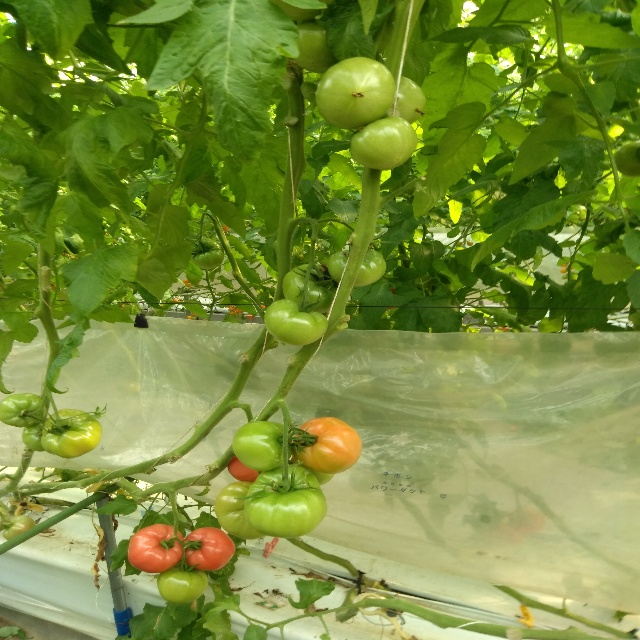b_fully_ripened: (128, 523, 184, 573), (183, 527, 235, 572), (228, 455, 268, 482)
b_green: (244, 465, 327, 539), (315, 57, 398, 130), (351, 116, 418, 170), (214, 482, 268, 540), (264, 298, 329, 346), (41, 409, 102, 459), (232, 421, 292, 471), (283, 263, 339, 314), (292, 20, 341, 74), (379, 75, 427, 125), (328, 248, 387, 287), (157, 564, 208, 604), (0, 393, 46, 428), (190, 237, 224, 271), (2, 515, 36, 540), (23, 418, 48, 452)
b_half_ripened: (292, 417, 363, 474)
